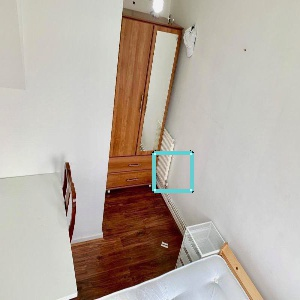square: (149, 148, 197, 196)
